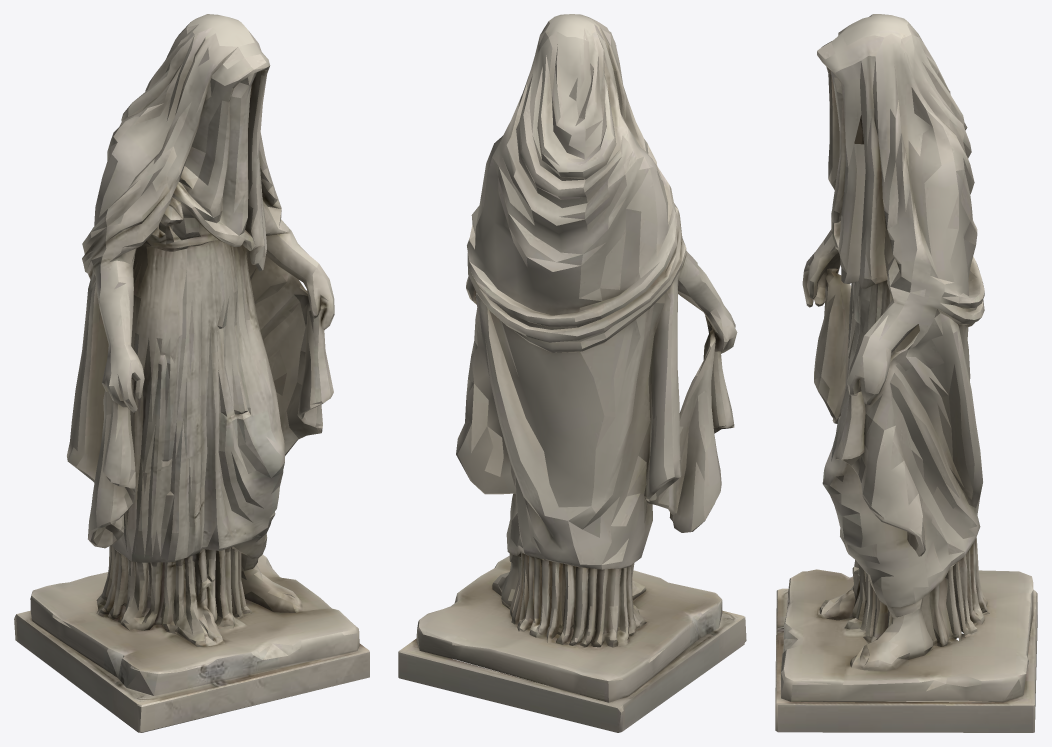
Rendered from statue_veiled_mourning.glb.
The picture shows the model from 3 angles, left to right: view 1: azimuth 30°, elevation 25°; view 2: azimuth 150°, elevation 25°; view 3: azimuth 270°, elevation 25°; orthographic projection. The views are drawn at different scales.
Parts seen in each view (by area): view 1: statue_veiled_mourning; view 2: statue_veiled_mourning; view 3: statue_veiled_mourning.
Part boxes in pixels (x1=…): statue_veiled_mourning: x1=14, y1=14, x2=369, y2=732; statue_veiled_mourning: x1=398, y1=14, x2=746, y2=732; statue_veiled_mourning: x1=775, y1=14, x2=1037, y2=732.
Bounding box in the file's own units: 0.7637 × 1.9 × 0.6818.
1 material, 1 textured.
